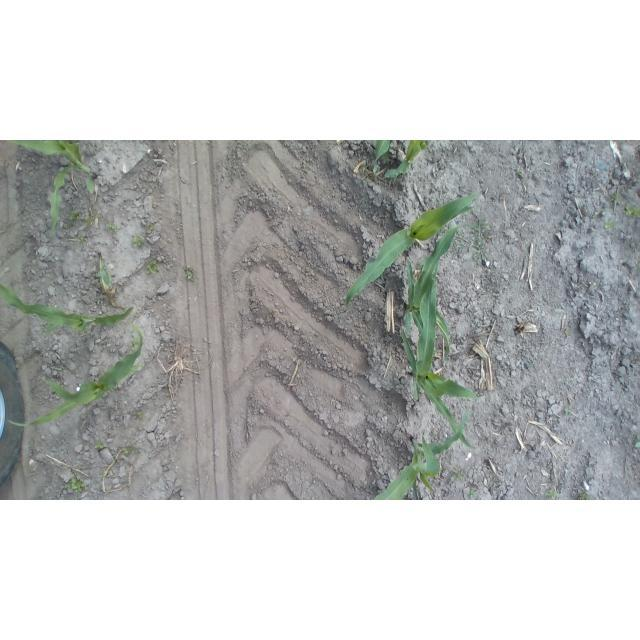Maize: (346, 189, 481, 307), (402, 265, 483, 450), (9, 321, 144, 427), (403, 223, 477, 362), (370, 397, 469, 500), (1, 262, 134, 334), (4, 141, 98, 232), (373, 141, 430, 180)
Weeds: (441, 218, 490, 261), (66, 472, 86, 494), (66, 210, 80, 228), (83, 213, 97, 228), (105, 221, 119, 235), (146, 260, 159, 275), (625, 205, 640, 218), (185, 264, 196, 281), (451, 469, 466, 481), (128, 338, 141, 351), (132, 235, 145, 248), (416, 256, 427, 271), (122, 444, 136, 455), (545, 489, 558, 500), (604, 218, 615, 231), (578, 492, 590, 501), (609, 195, 621, 204), (77, 234, 85, 247), (146, 224, 155, 235), (469, 489, 478, 499), (634, 435, 640, 449), (564, 406, 573, 415), (95, 440, 105, 448), (136, 409, 143, 419), (517, 168, 524, 176), (363, 163, 370, 170), (564, 329, 573, 334), (83, 326, 89, 332)
